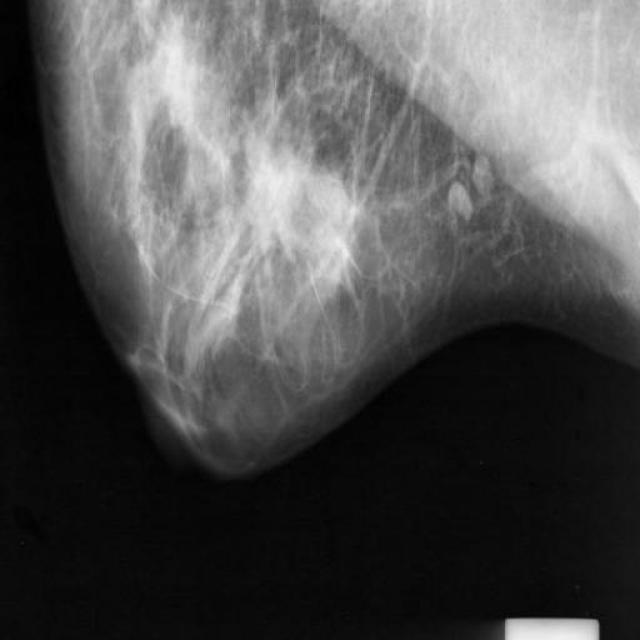cancer: (236, 135, 312, 265)
